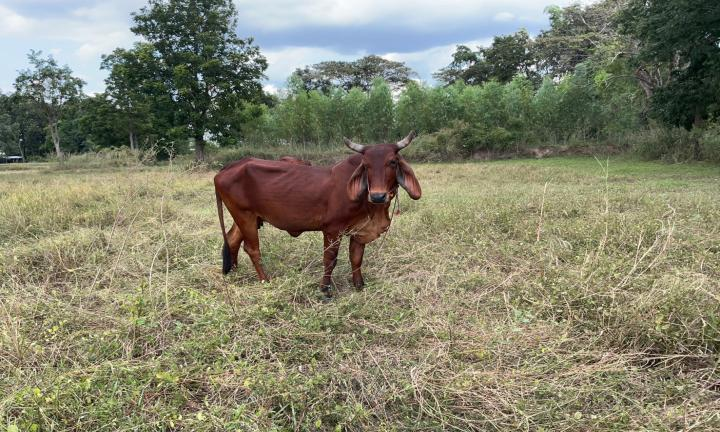Brahman: (214, 132, 421, 297)
